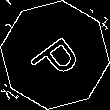P_NE: (24, 25, 86, 85)
